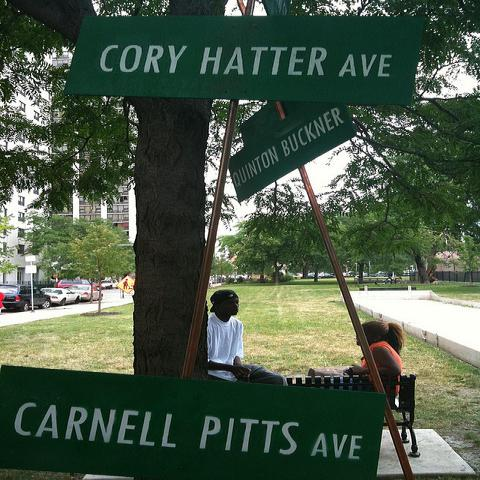car: (1, 284, 50, 312), (41, 287, 81, 306), (68, 284, 103, 302), (56, 279, 92, 288), (101, 280, 118, 289), (343, 272, 355, 278), (319, 274, 334, 278), (93, 282, 100, 290), (294, 275, 298, 280)
